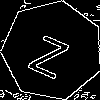Z: (27, 25, 74, 80)
